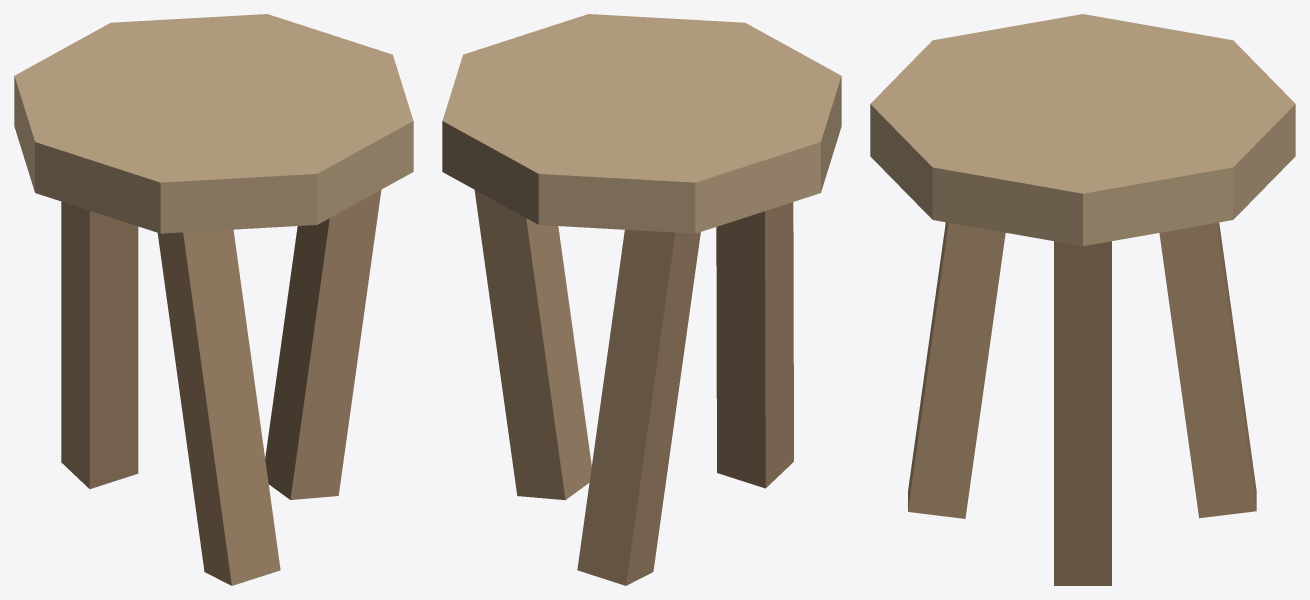
The model's file is shop_stool.glb.
3 views of the same model, side by side, from view 1: azimuth 30°, elevation 25°; view 2: azimuth 150°, elevation 25°; view 3: azimuth 270°, elevation 25° (orthographic). The views are drawn at different scales.
Parts seen in each view (by area): view 1: shop_stool_00, shop_stool_03, shop_stool_01, shop_stool_02; view 2: shop_stool_00, shop_stool_02, shop_stool_01, shop_stool_03; view 3: shop_stool_00, shop_stool_01, shop_stool_03, shop_stool_02.
Part boxes in pixels (x1=…): shop_stool_00: x1=14, y1=14, x2=413, y2=233; shop_stool_03: x1=157, y1=229, x2=280, y2=585; shop_stool_01: x1=265, y1=190, x2=381, y2=499; shop_stool_02: x1=61, y1=201, x2=138, y2=488; shop_stool_00: x1=442, y1=14, x2=841, y2=233; shop_stool_02: x1=577, y1=230, x2=700, y2=585; shop_stool_01: x1=474, y1=190, x2=591, y2=500; shop_stool_03: x1=716, y1=202, x2=793, y2=488; shop_stool_00: x1=870, y1=14, x2=1295, y2=246; shop_stool_01: x1=1054, y1=241, x2=1111, y2=585; shop_stool_03: x1=908, y1=222, x2=1005, y2=518; shop_stool_02: x1=1159, y1=222, x2=1256, y2=518.
Size of the model in its own units: 0.44 by 0.4886 by 0.44.
